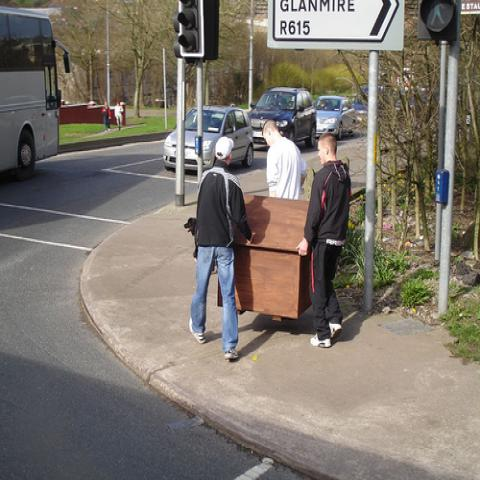bus: (0, 5, 71, 177)
car: (164, 109, 256, 172), (253, 87, 314, 150), (315, 94, 359, 144), (352, 86, 384, 125)
